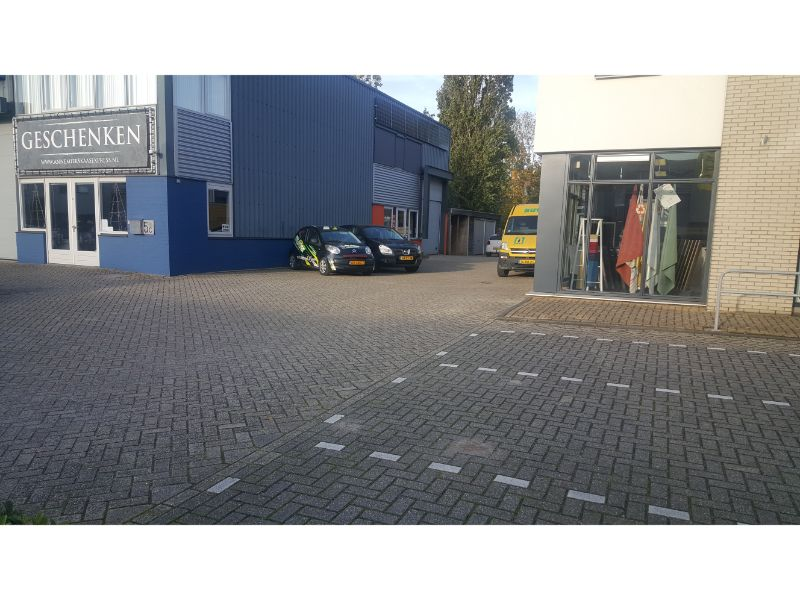kenteken: (517, 259, 535, 265), (350, 259, 366, 265), (399, 256, 415, 260)
